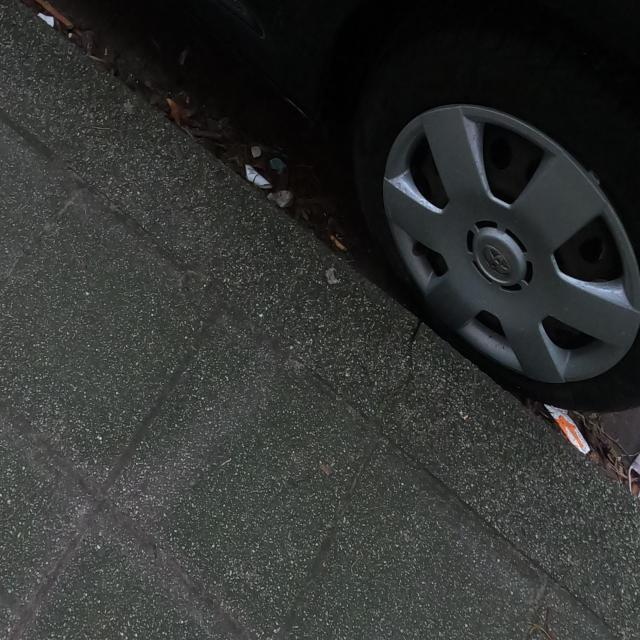Plastic: (543, 403, 591, 456)
